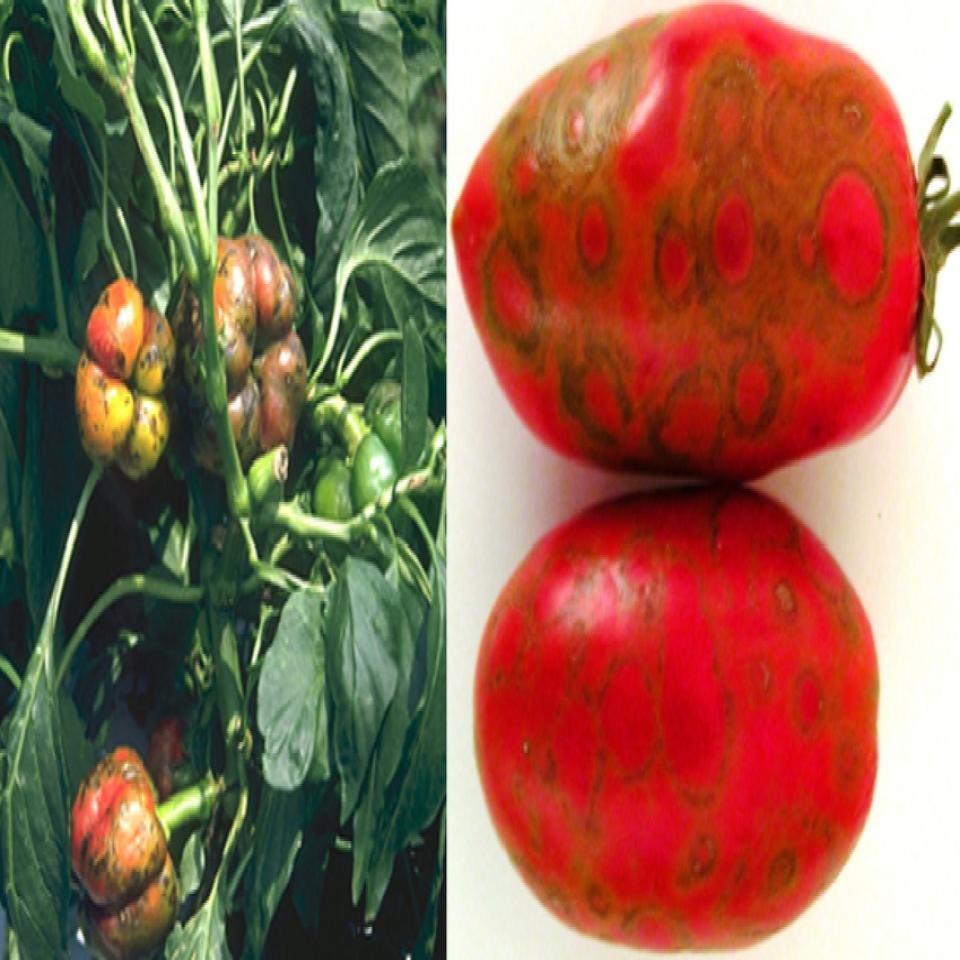Spotted wilt Virus: (452, 0, 960, 481), (475, 483, 879, 956)
